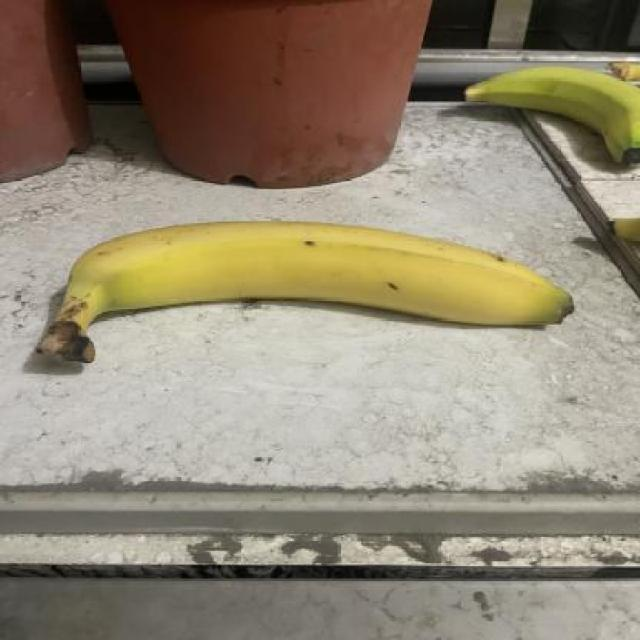banana: (24, 210, 587, 376), (446, 55, 640, 174)
